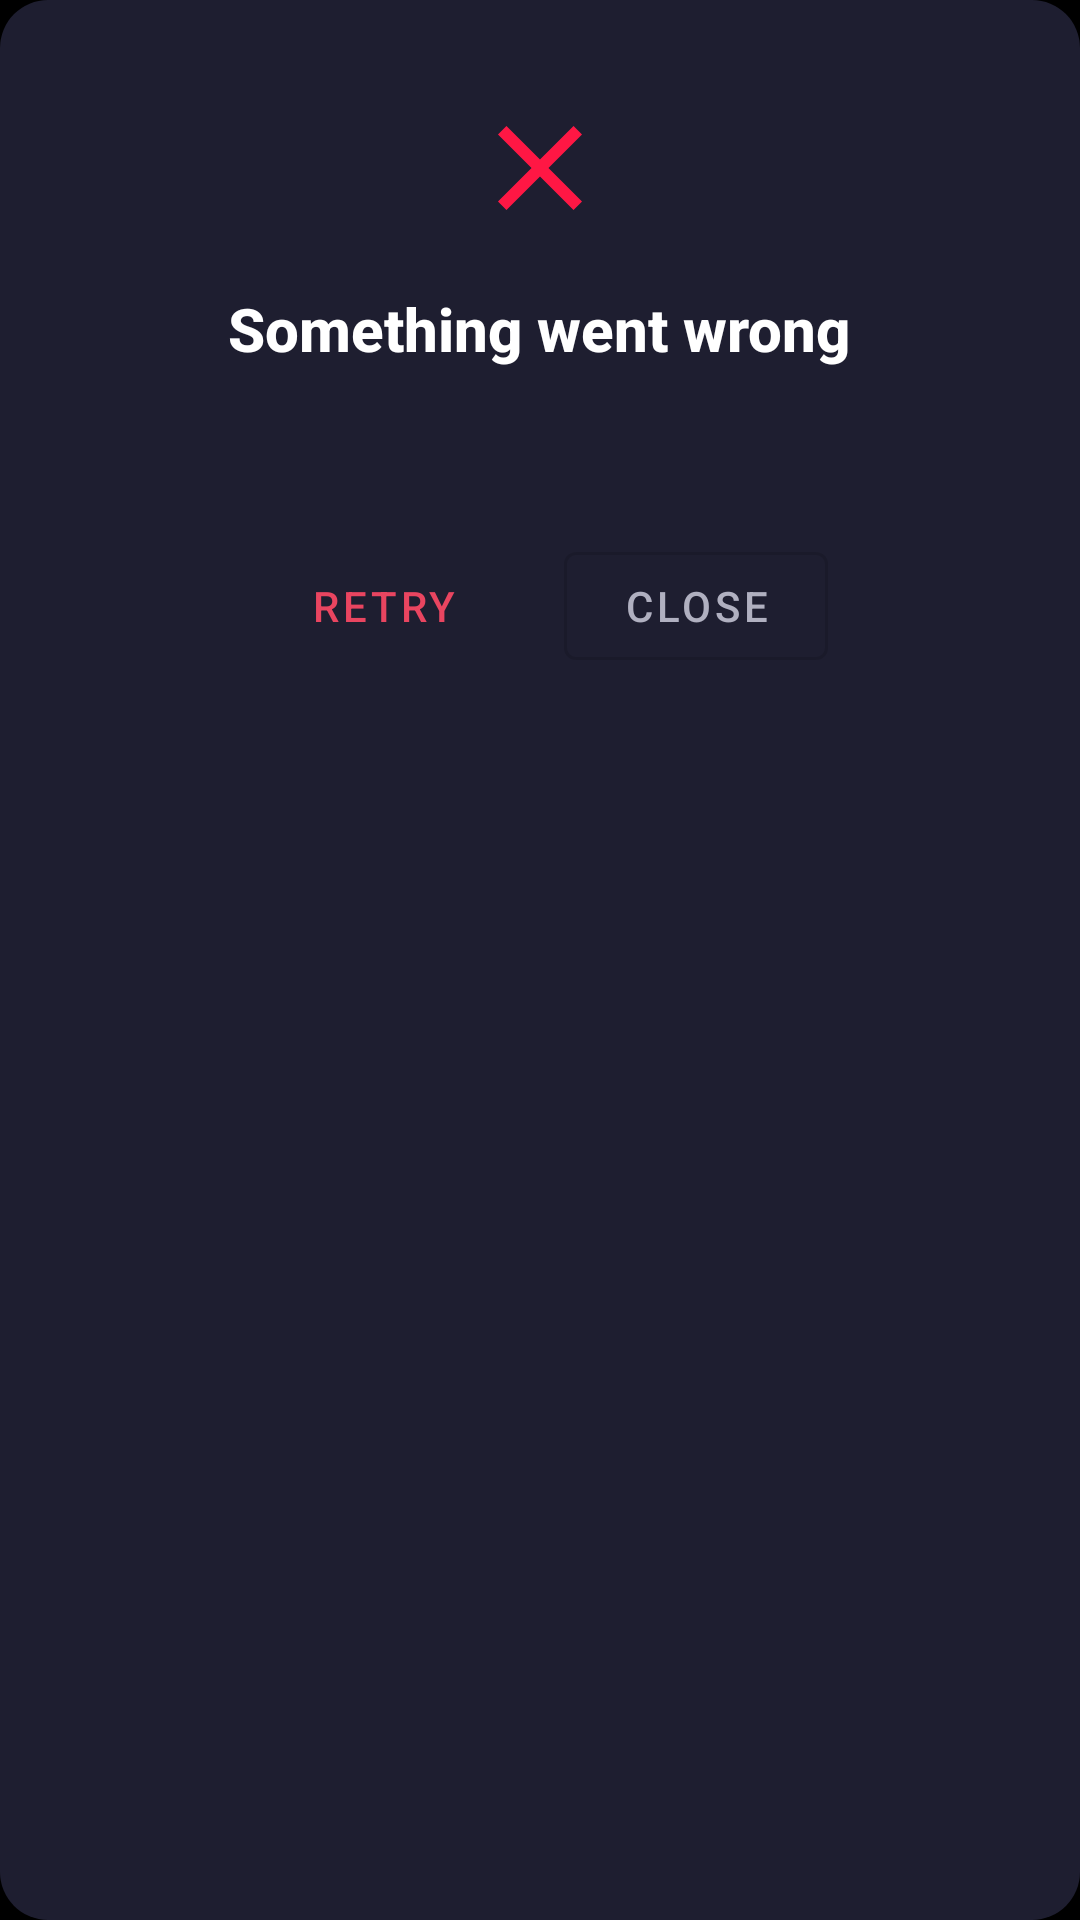

Screen size 1080*1920. Icon name, then its box in pixels as (x1, y1, x2, y2):
Error: (498, 126, 582, 210)
